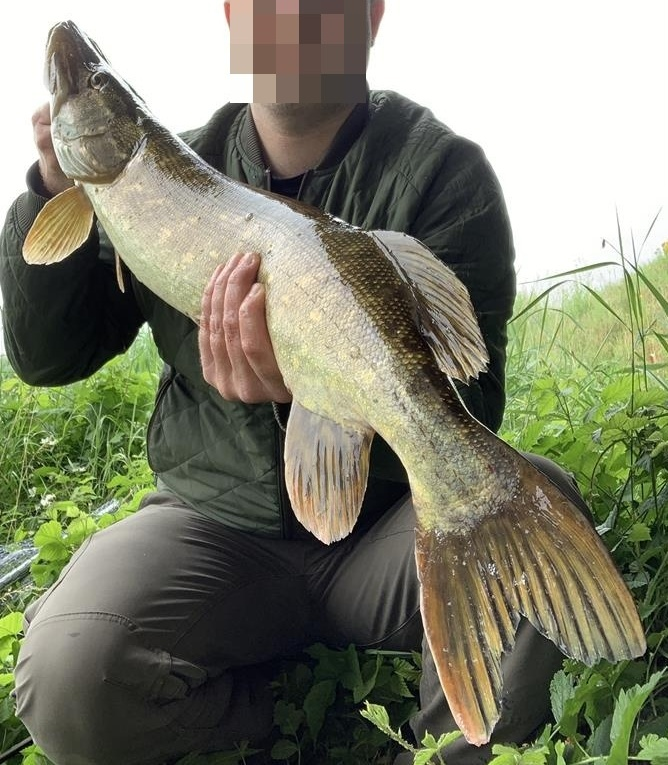Esox lucius: (20, 20, 648, 745)
